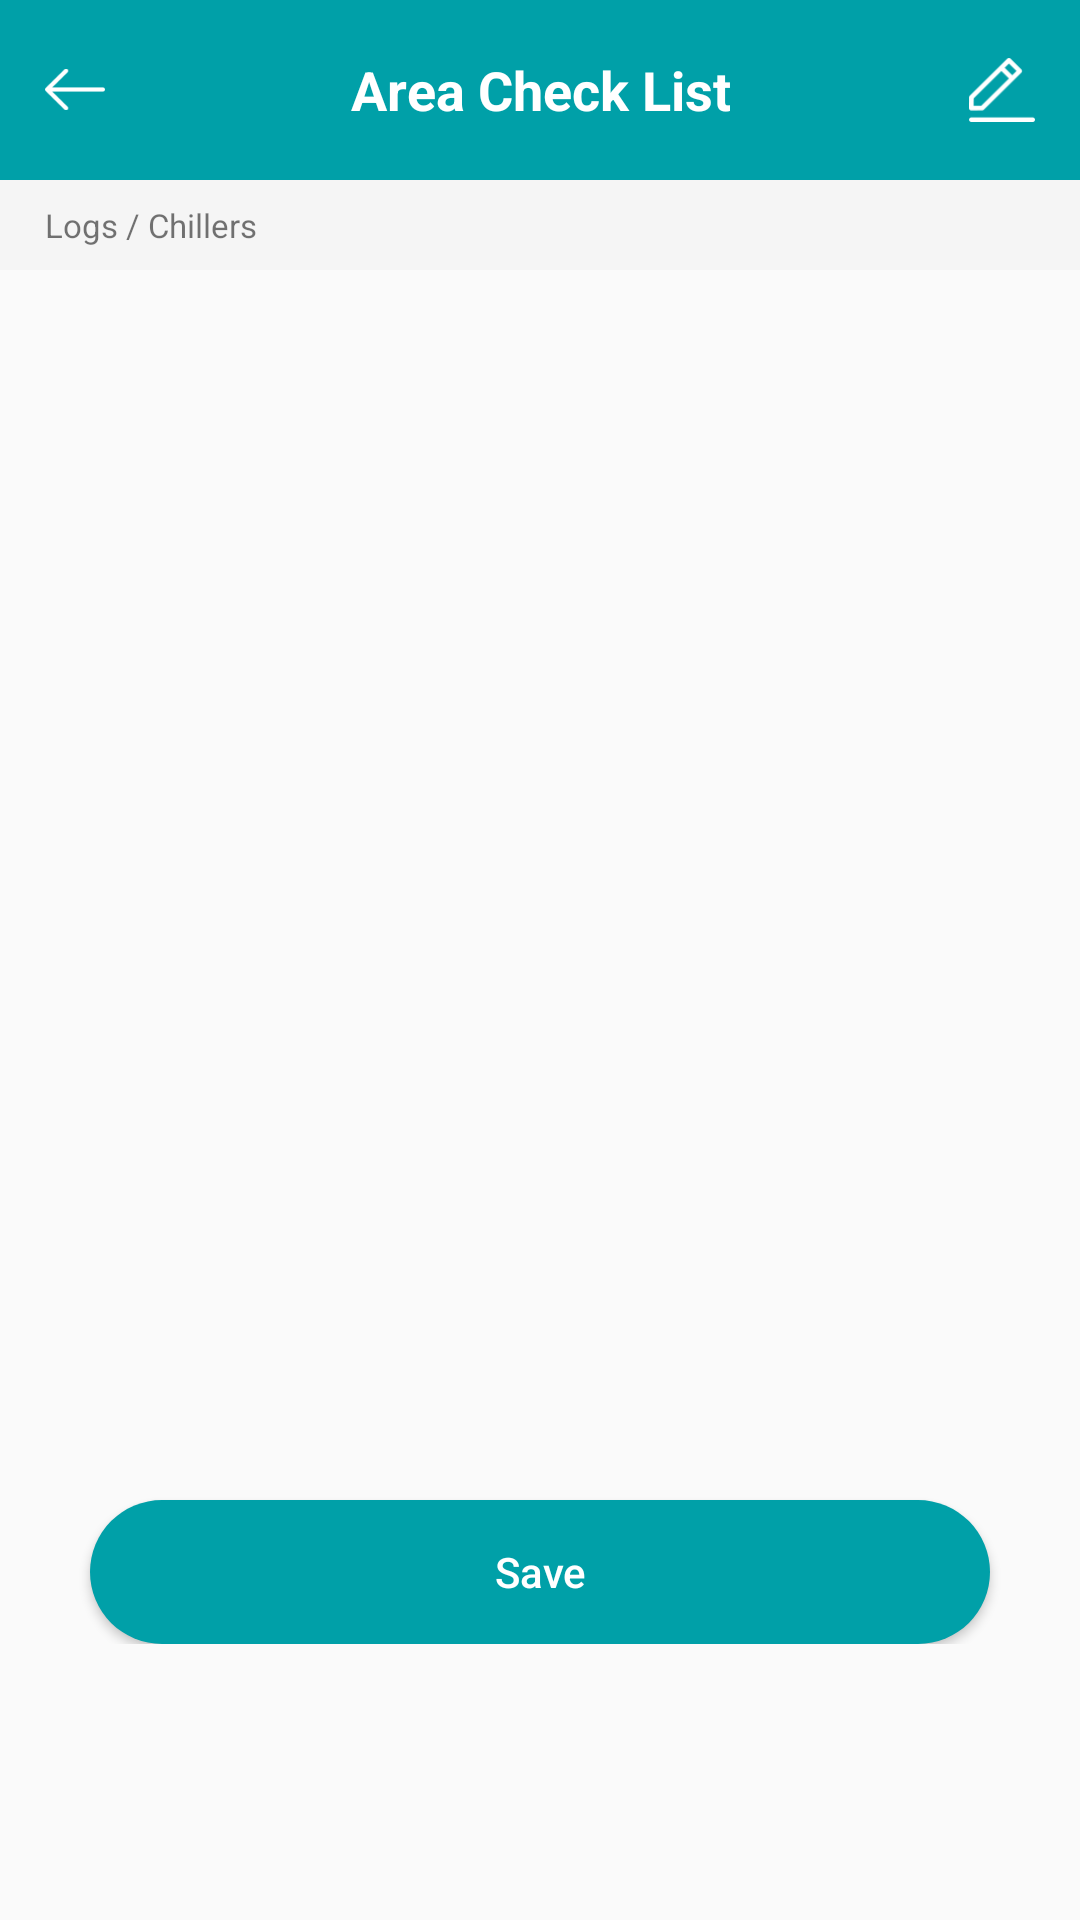

Icon click points for this 1080w x 1920h phone screenshot, format [x,y]:
back: [75,89]
edit: [1002,90]
